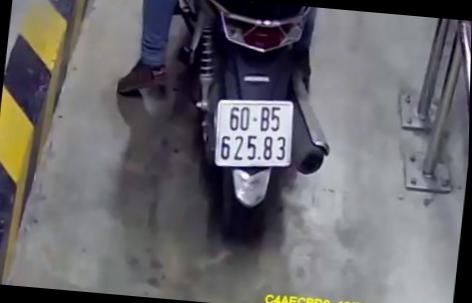LP: (212, 97, 300, 172)
